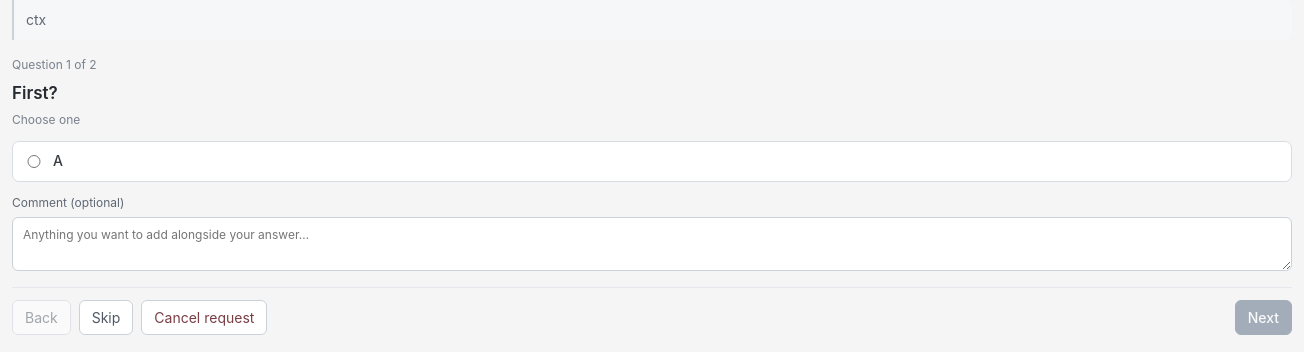
Scenario: QuestionRich — 1-4 question stepper › Back returns to question 1 with its prior answer preserved (selecting A again keeps it checked)
Click the radio button labelled "A" at coordinates (34, 162), box [25,155,43,168]
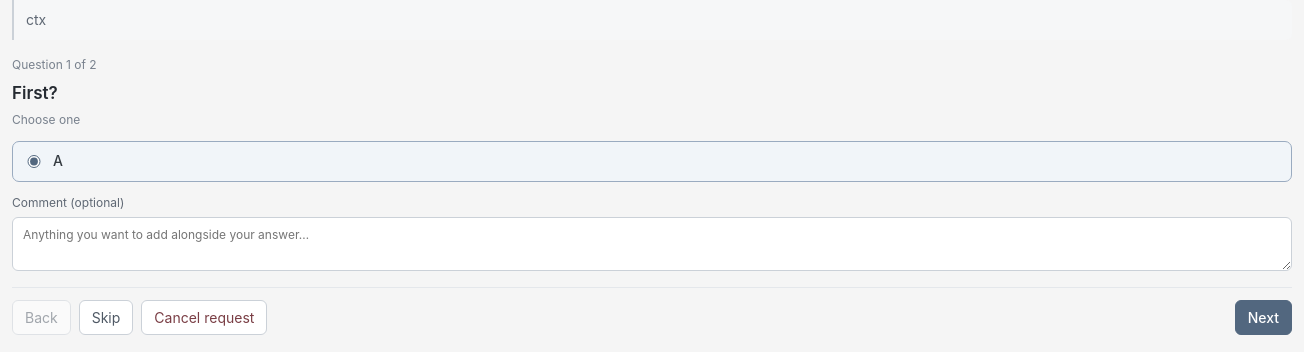
Click the button with test id "question-next" at coordinates (1263, 318), box [1235,300,1292,335]
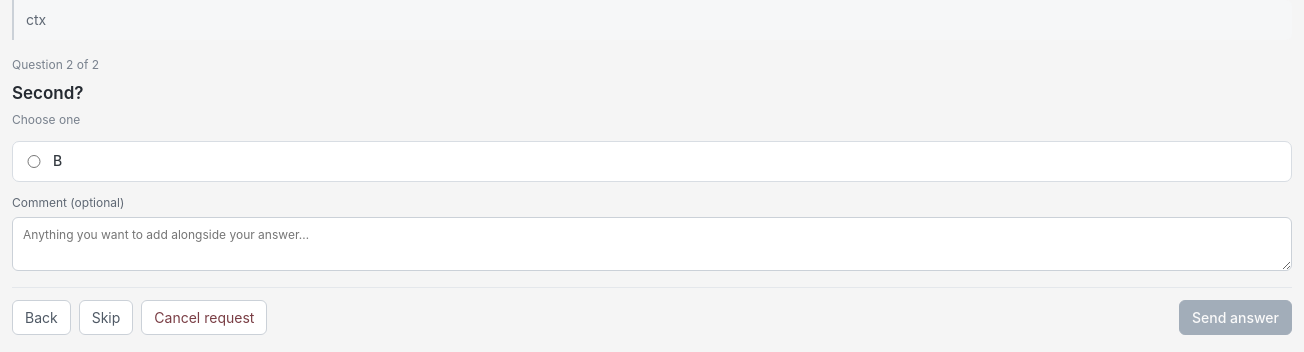
Click the button with test id "question-back" at coordinates (41, 318), box [12,300,71,335]
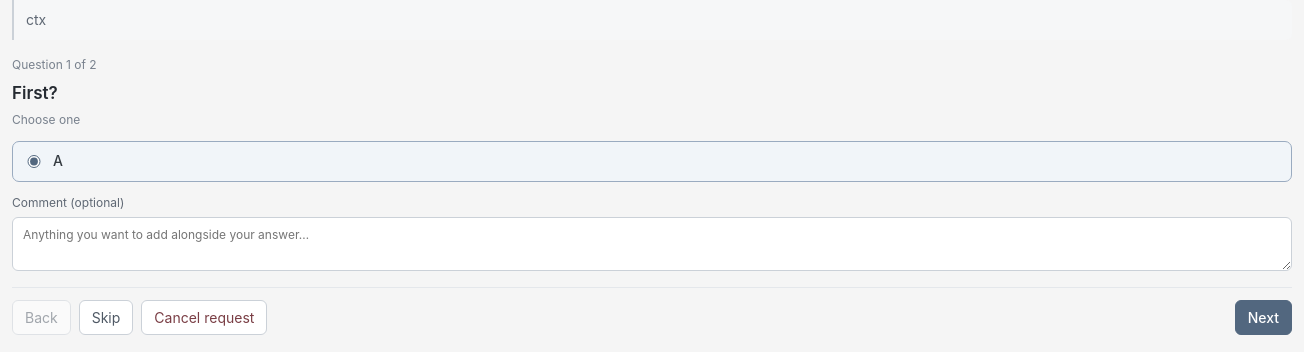
Now the text "Question 1 of 2" is shown, box [12,57,97,72]
Now the radio button labelled "A" is checked, box [25,155,43,168]
